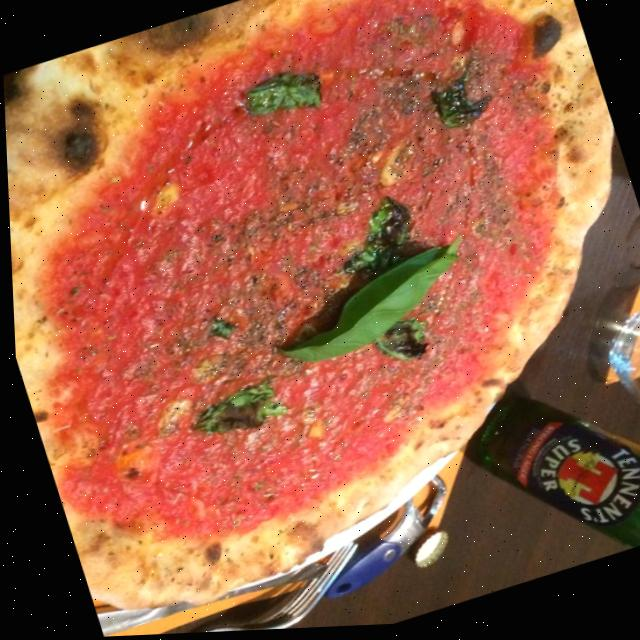basil: (260, 241, 481, 375), (323, 195, 421, 286), (184, 381, 286, 447), (238, 65, 327, 131), (426, 70, 493, 135), (367, 317, 431, 371), (202, 315, 235, 344)
pizza: (0, 0, 640, 636)
